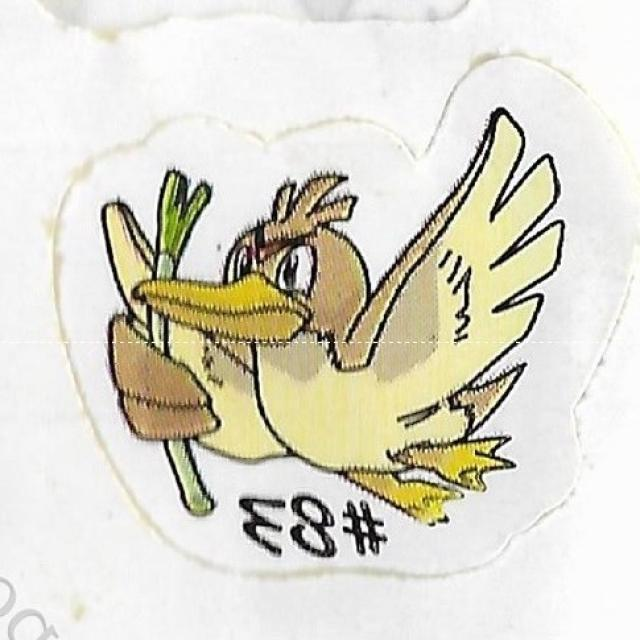Farfetchd: (97, 178, 513, 526)
